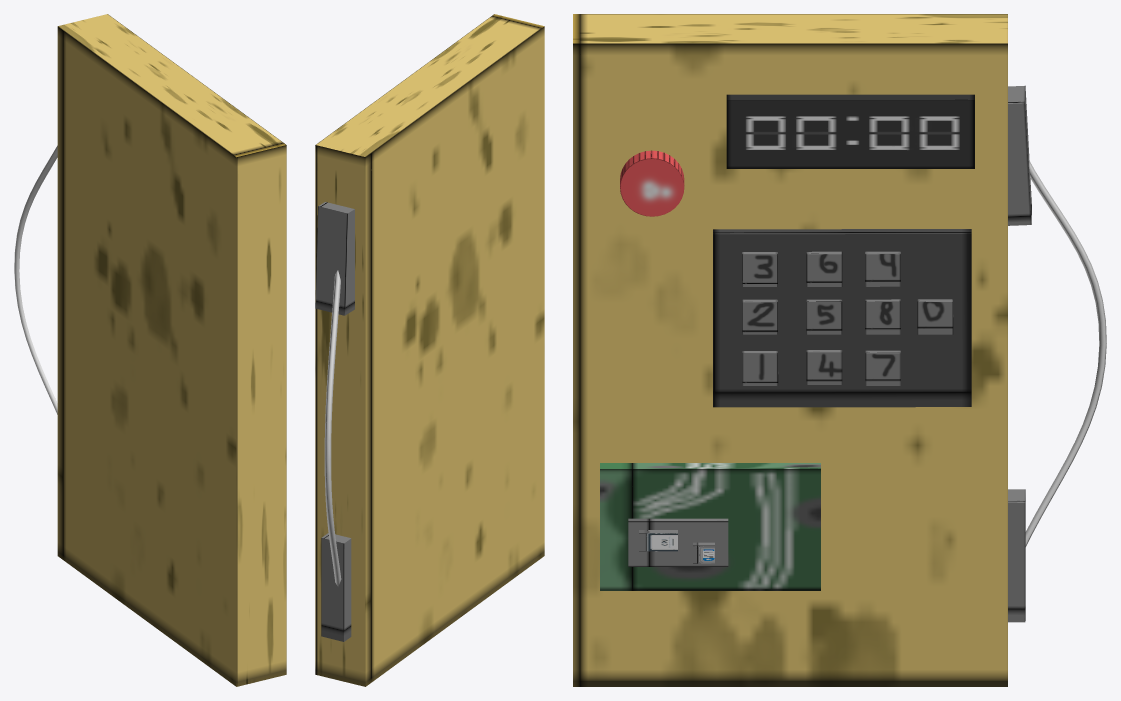
File: different_bomb_spot_the_difference.fbx
3 views of the same model, side by side, from view 1: azimuth 30°, elevation 25°; view 2: azimuth 150°, elevation 25°; view 3: azimuth 270°, elevation 25° (orthographic). The views are drawn at different scales.
Parts seen in each view (by area): view 1: Cube, Catenary; view 2: Cube, Cube.003, Cube.002, Catenary; view 3: Cube, Cube.006, Cube.007, Cube.019, Cube.001, Catenary, Cube.003, Cube.002.
Boxes of the visible parts, x1,y1,x2,y2 form: Cube: [57, 14, 286, 686]; Catenary: [14, 145, 57, 414]; Cube: [315, 14, 544, 686]; Cube.003: [315, 202, 354, 315]; Cube.002: [321, 533, 351, 641]; Catenary: [324, 270, 341, 586]; Cube: [573, 14, 1007, 686]; Cube.006: [628, 229, 971, 566]; Cube.007: [600, 463, 820, 590]; Cube.019: [726, 94, 974, 168]; Cube.001: [620, 150, 684, 216]; Catenary: [1025, 160, 1106, 546]; Cube.003: [1008, 85, 1031, 225]; Cube.002: [1008, 489, 1025, 622].
Bounding box in the file's own units: 157 × 1057 × 795.
